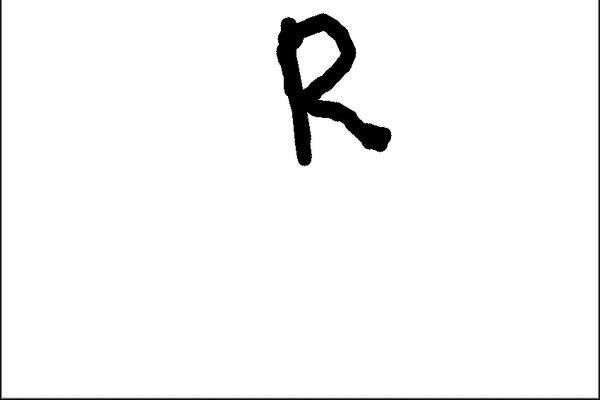R: (271, 10, 396, 174)
